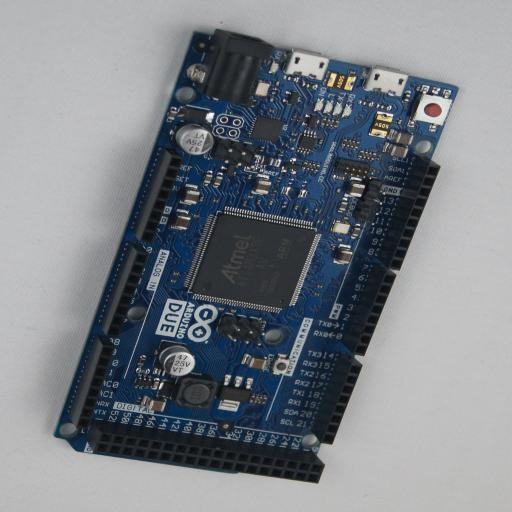Arduino Due: (53, 29, 459, 483)
